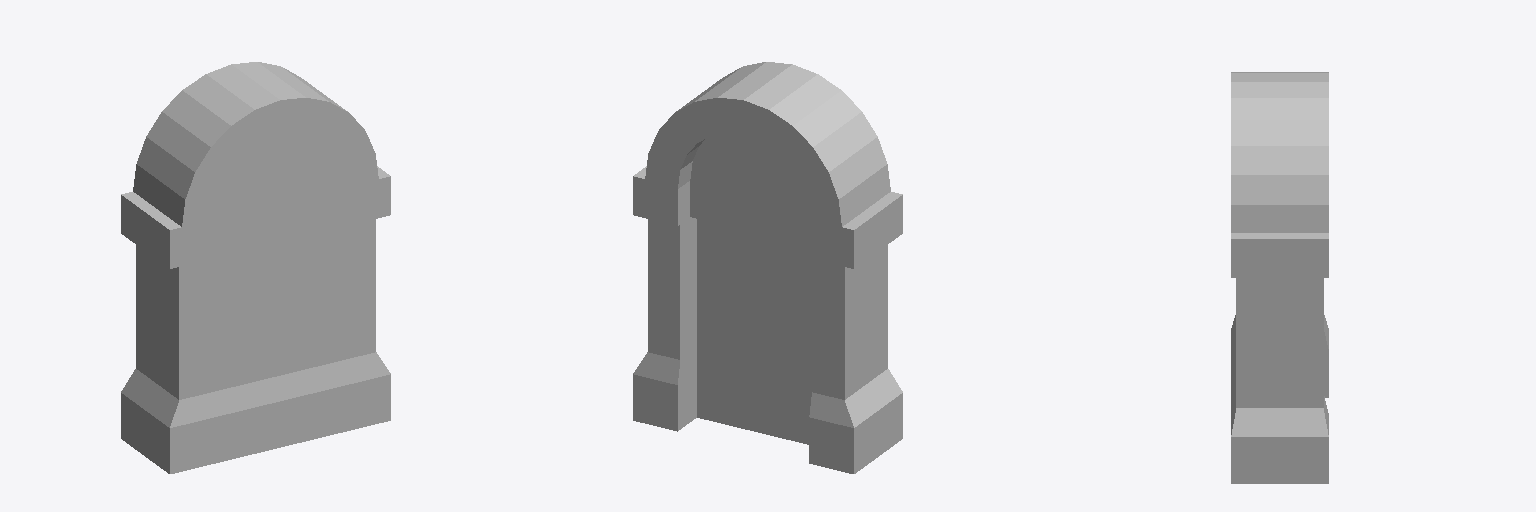
Rendered from gravestoneRound.obj.
3 renders of one model, left to right at view 1: azimuth 30°, elevation 25°; view 2: azimuth 150°, elevation 25°; view 3: azimuth 270°, elevation 25°, orthographic.
Visible parts, largest first — view 1: gravestoneRound; view 2: gravestoneRound; view 3: gravestoneRound.
Part boxes in pixels (x1,y1,x2,y2): gravestoneRound: (121,62,390,473); gravestoneRound: (633,62,902,473); gravestoneRound: (1231,72,1328,483).
Bounding box in the file's own units: 0.39 × 0.585 × 0.1495.